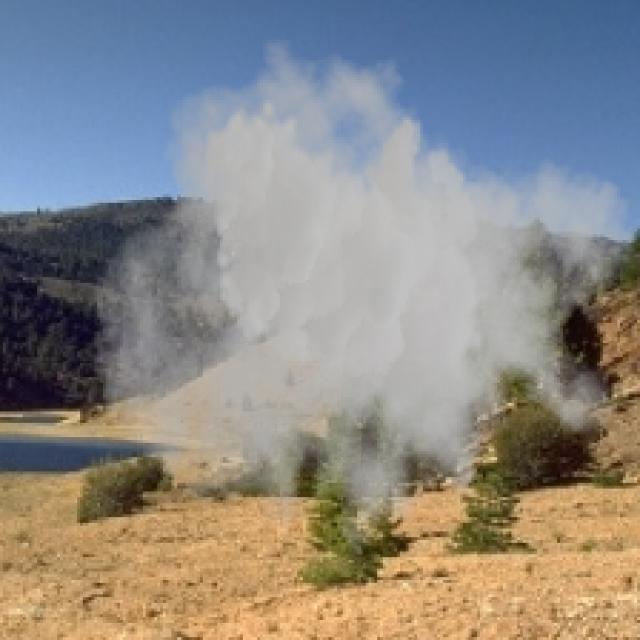Smoke: (92, 37, 638, 586)
